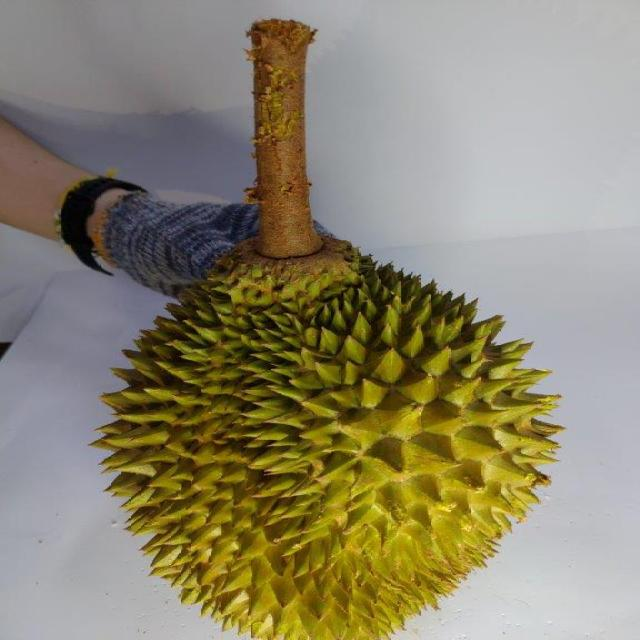immature: (91, 238, 566, 640)
